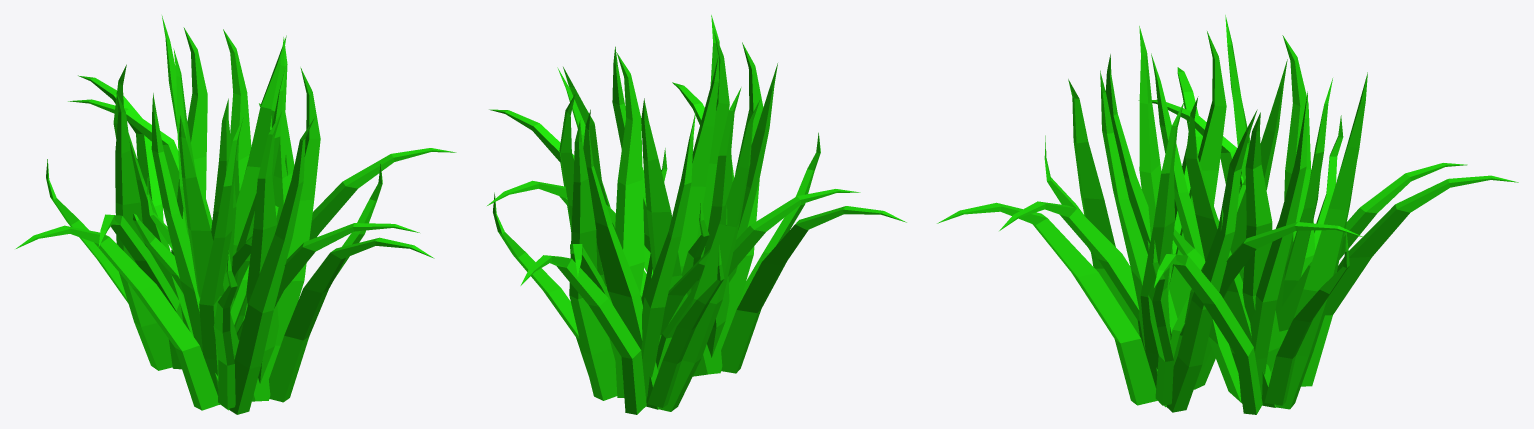
The model's file is Grass1.fbx.
3 views of the same model, side by side, from view 1: azimuth 30°, elevation 25°; view 2: azimuth 150°, elevation 25°; view 3: azimuth 270°, elevation 25° (orthographic). The views are drawn at different scales.
Visible parts, largest first — view 1: Grass2; view 2: Grass2; view 3: Grass2.
Boxes of the visible parts, left/top/right/bottom form: Grass2: left=16, top=16, right=456, bottom=414; Grass2: left=487, top=15, right=906, bottom=414; Grass2: left=937, top=15, right=1518, bottom=414.
Size of the model in its own units: 58.62 by 40.22 by 65.19.
